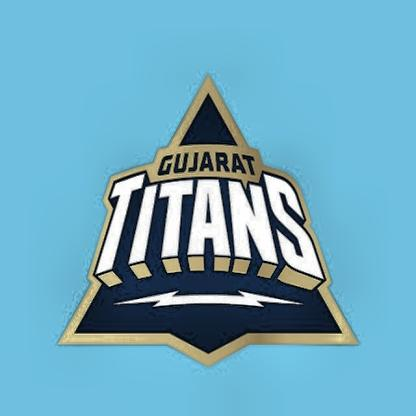Gujarat Titans: (61, 72, 358, 365)
